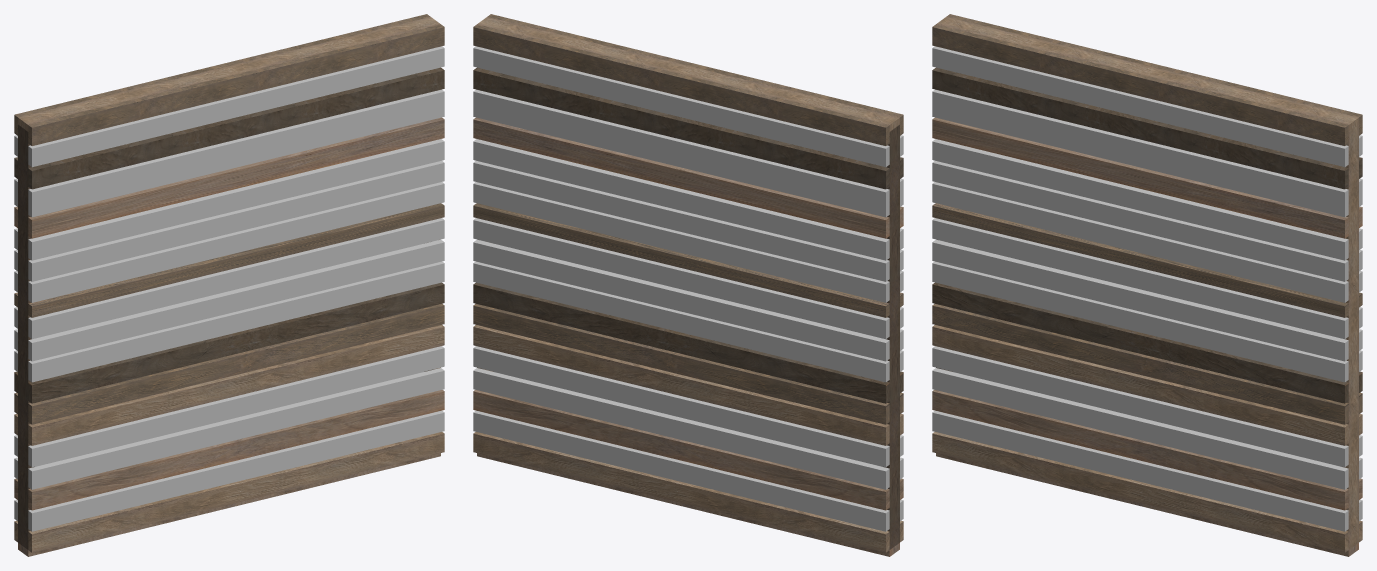
Rendered from WallPeiceB.fbx.
3 renders of one model, left to right at view 1: azimuth 30°, elevation 25°; view 2: azimuth 150°, elevation 25°; view 3: azimuth 330°, elevation 25°, orthographic.
Visible parts, largest first — view 1: WallPeiceB; view 2: WallPeiceB; view 3: WallPeiceB.
Boxes of the visible parts, <box> form: WallPeiceB: <box>14,14,444,556</box>; WallPeiceB: <box>473,14,903,556</box>; WallPeiceB: <box>932,14,1362,556</box>.
Bounding box in the file's own units: 374 × 374 × 28.
